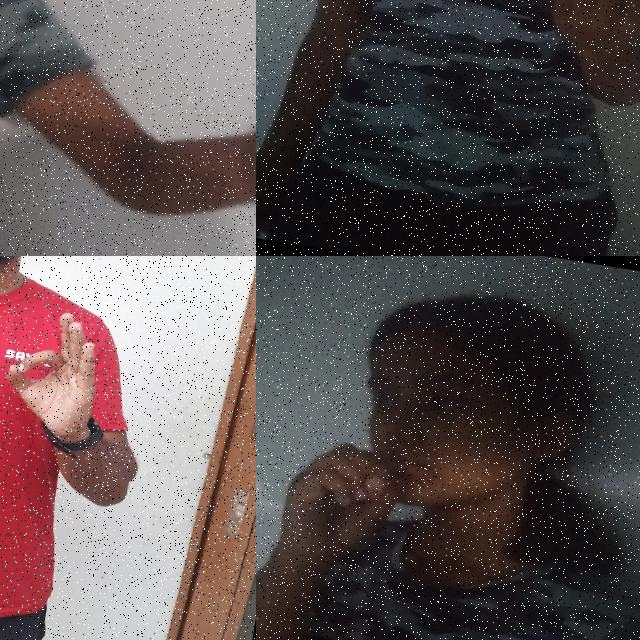Fist Mouth: (266, 259, 574, 616)
Middle Finger: (531, 0, 640, 115)
Okay: (0, 287, 119, 458)
